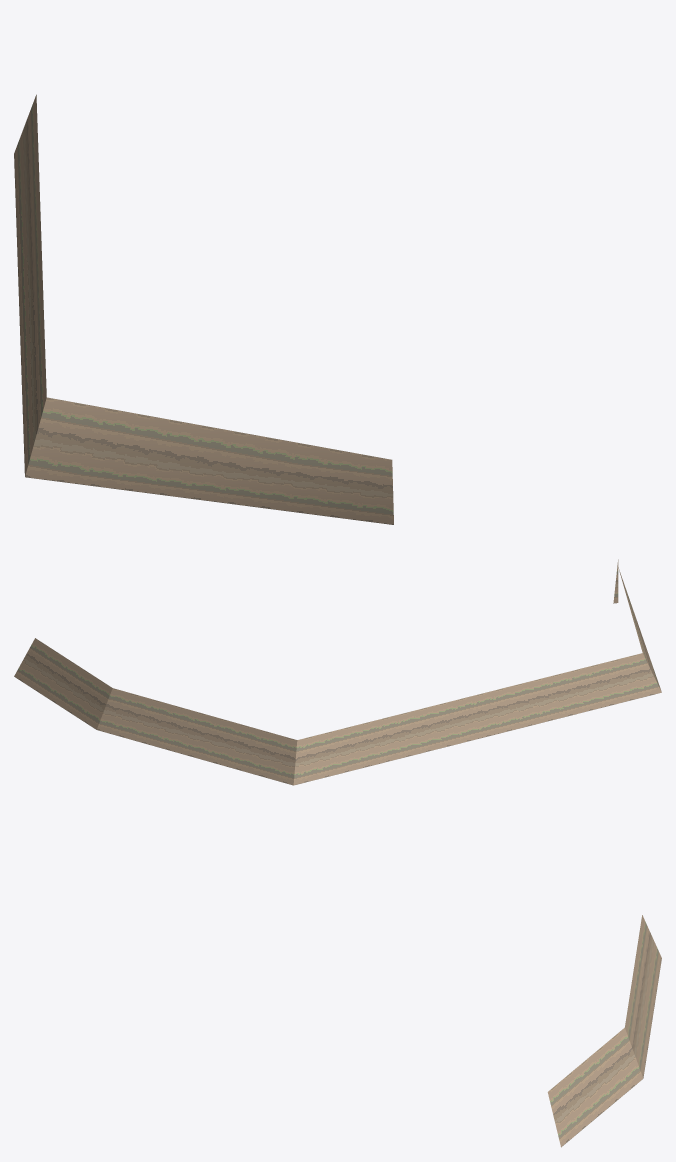
Rendered from kd_stage_13612f_4_63_bounded.glb.
3 renders of one model, top to bottom at view 1: azimuth 30°, elevation 25°; view 2: azimuth 150°, elevation 25°; view 3: azimuth 270°, elevation 25°, orthographic. The views are drawn at different scales.
Parts seen in each view (by area): view 1: kd_stage_13612f_4_63_bounded; view 2: kd_stage_13612f_4_63_bounded; view 3: kd_stage_13612f_4_63_bounded.
Part boxes in pixels (x1=…): kd_stage_13612f_4_63_bounded: x1=14, y1=94, x2=393, y2=524; kd_stage_13612f_4_63_bounded: x1=14, y1=559, x2=661, y2=785; kd_stage_13612f_4_63_bounded: x1=547, y1=915, x2=661, y2=1147.
Bounding box in the file's own units: 21.93 × 1.9 × 20.28.
1 material, 1 textured.
